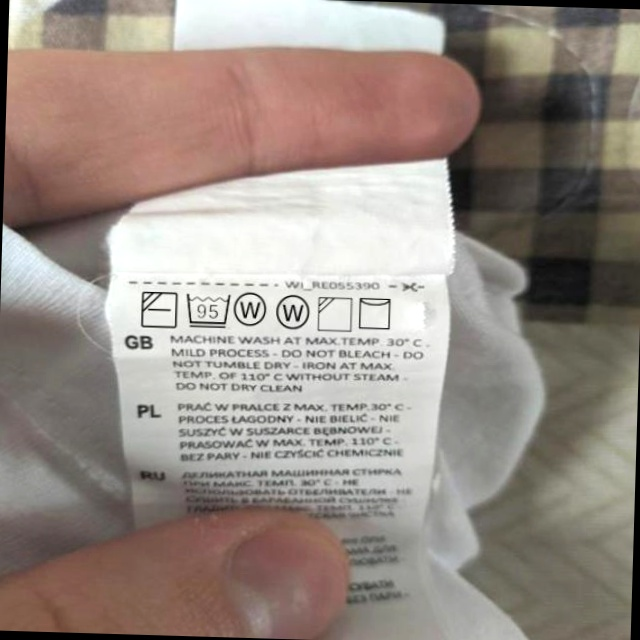95C: (184, 290, 233, 329)
dry_flat_in_shade: (139, 288, 179, 331)
line_dry: (356, 293, 396, 332)
shade_dry: (316, 294, 355, 334)
wet_clean: (275, 293, 312, 333), (234, 287, 270, 328)
